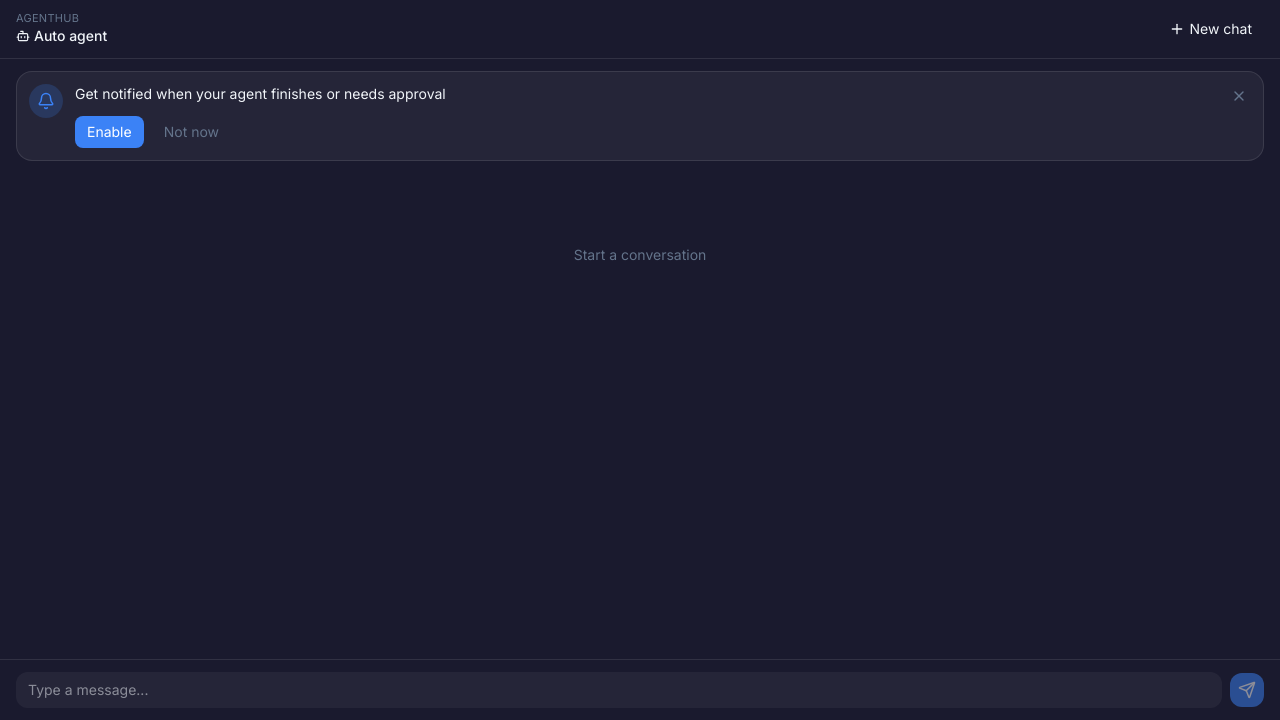
Test: MobileChat › preserves plain-text rendering for user messages (no markdown parsing)
Type "**not bold**" into the field with placeholder "Type a message...". click: (619, 690)
box: left=16, top=672, right=1222, bottom=708
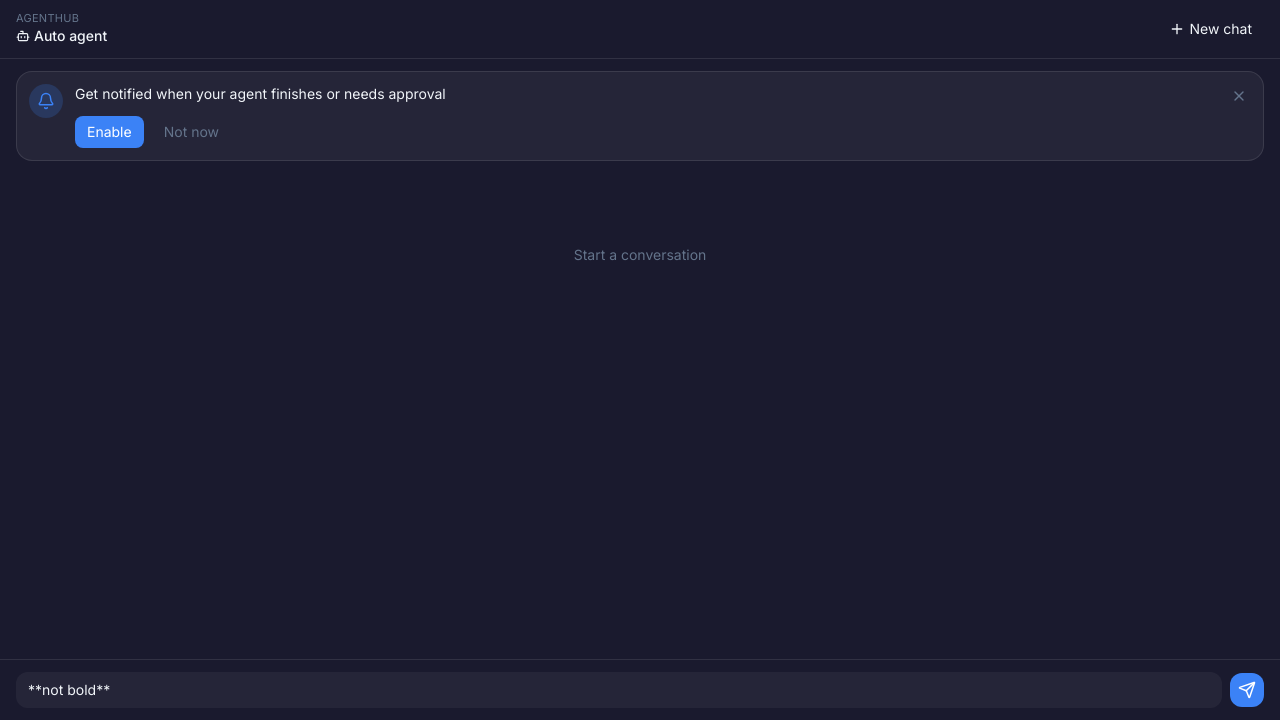
Click the button named "Send message". click: (1247, 690)
box: left=1230, top=673, right=1264, bottom=707
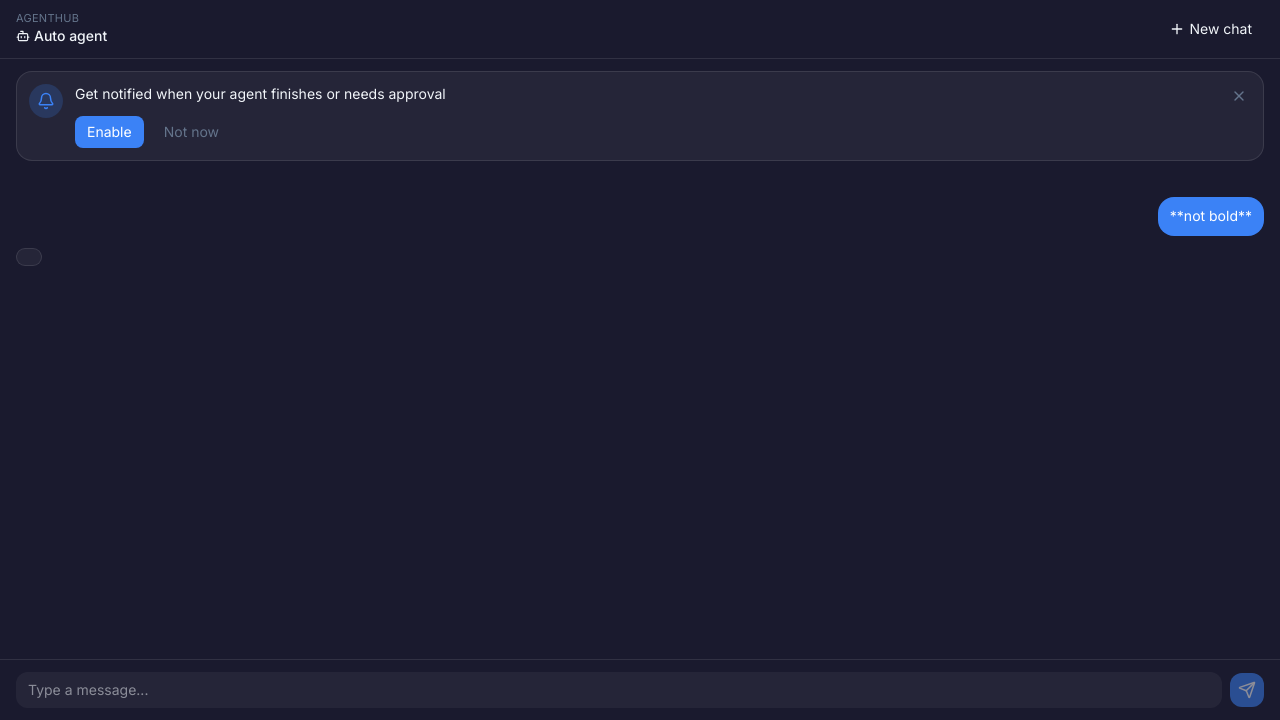
Now the text "**not bold**" is shown, box left=1170, top=205, right=1252, bottom=228
